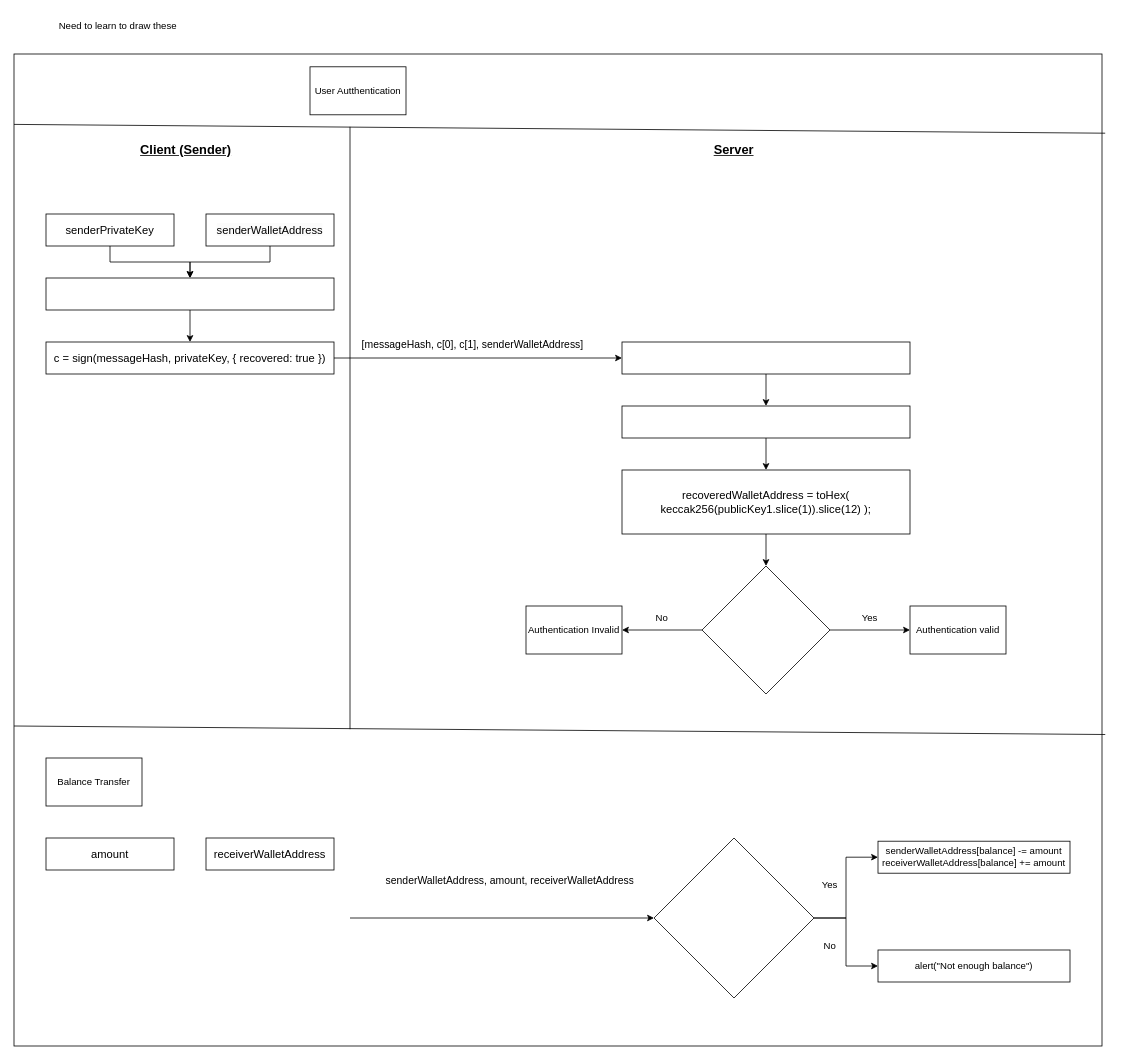
The diagram is 1121 pixels wide and 1060 high, and some of its shapes have lost their labels. Each missing label, with the centre of its shape:
"[messageHash, sigObj, recoveryBit, walletAddress]" goes at point (765, 357).
"Is recoveredWalletAddress = walletAddress?" goes at point (765, 629).
"Is senderWalletAddress[balance] > amount?" goes at point (733, 917).
"messageHash (given fixed 64 hexadecimal string)" goes at point (189, 293).
"secp.recoverPublicKey(messageHash, sig, recoveryBit)" goes at point (765, 421).
